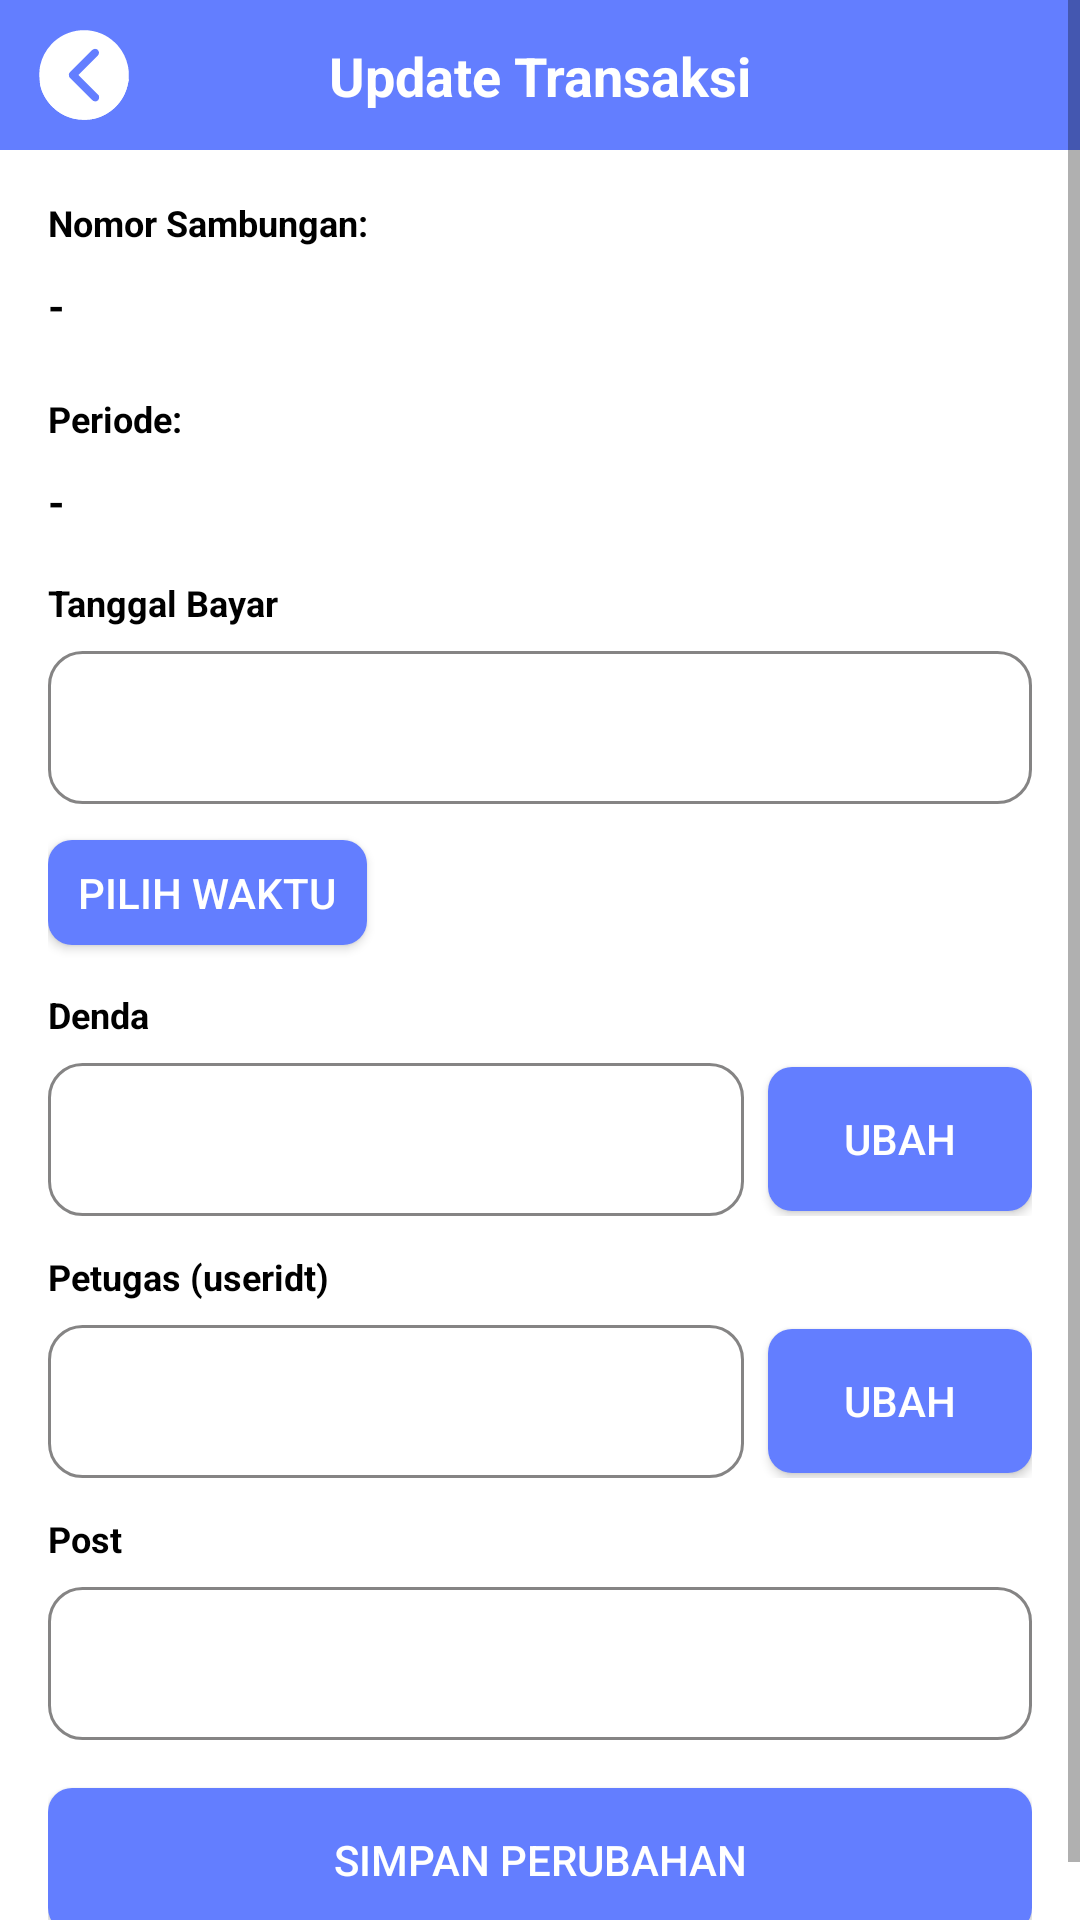

Screen size 1080w x 1920h. Icon name, then its center in pixels as (x=x, y=y):
Kembali: (x=84, y=75)
